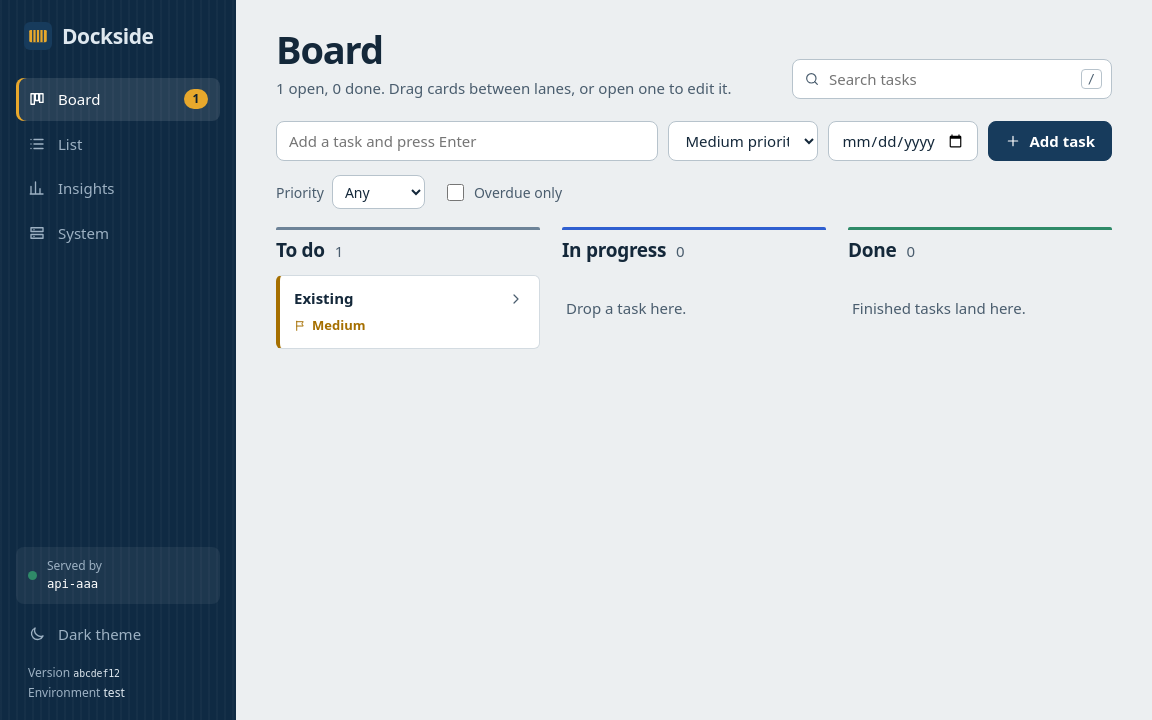
Scenario: board › adds a task from the quick-add form
Expected: the button "Existing" is shown, [294, 288, 495, 308]
Type "Write tests" into the field named "New task title" at (467, 141), box [276, 121, 658, 161]
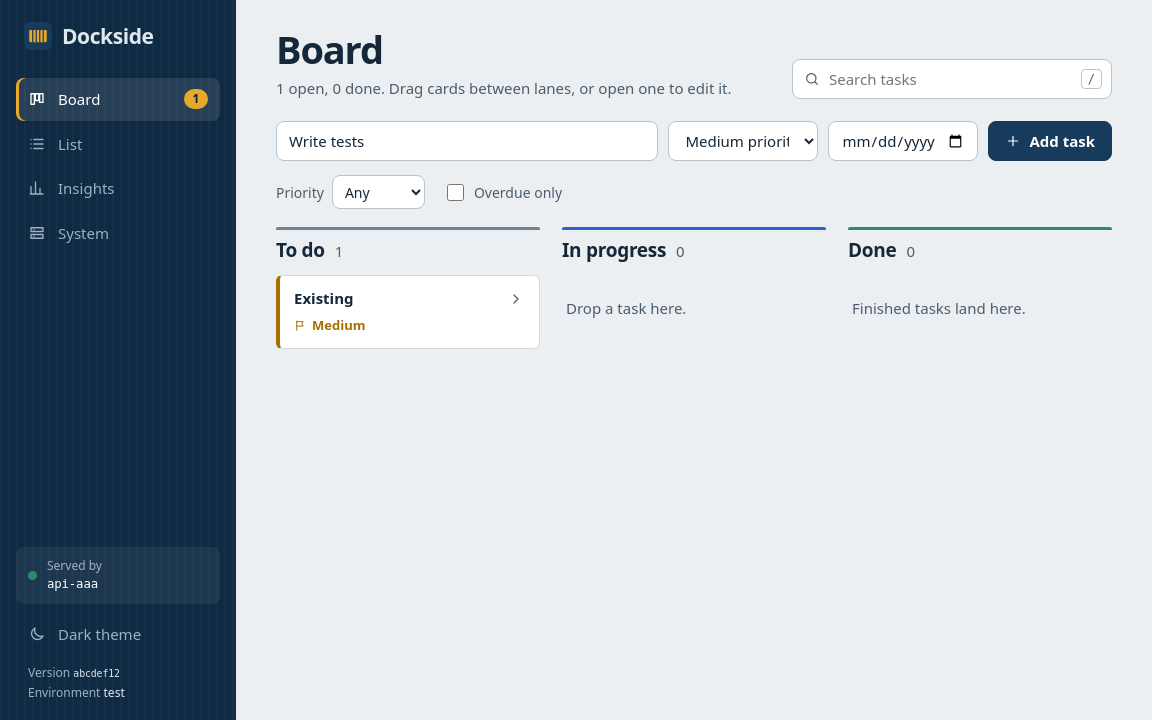
Select "High priority" in the dropdown named "Priority of the new task" at (743, 141), box [668, 121, 818, 161]
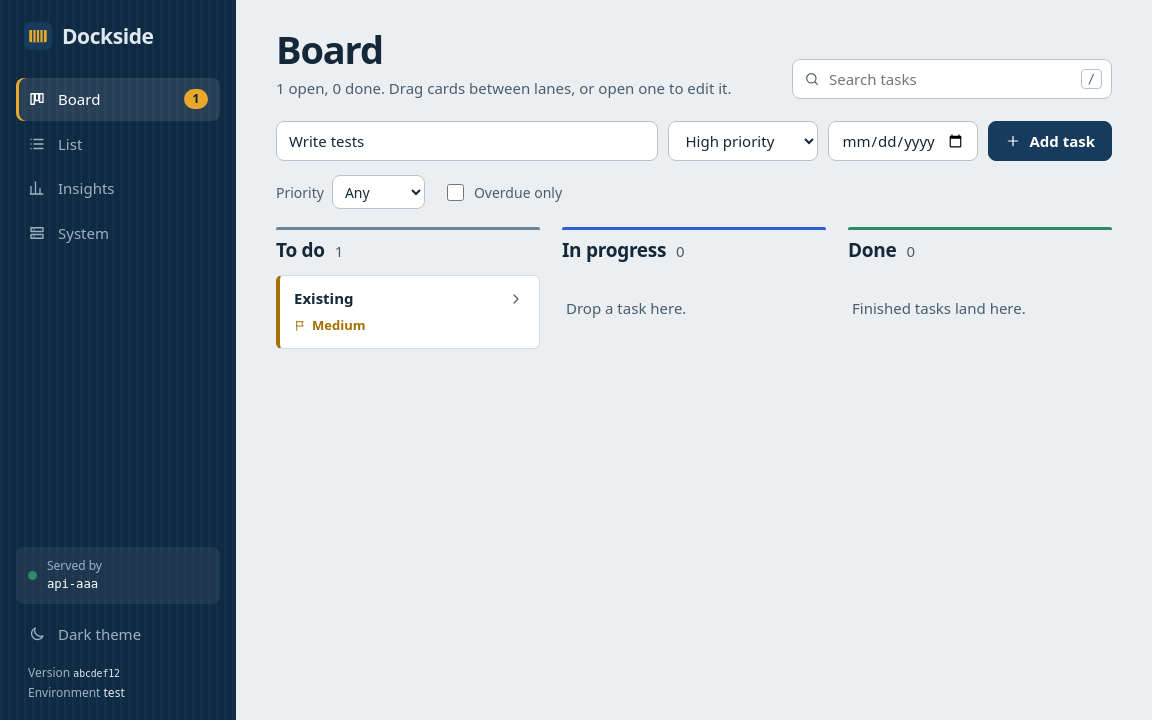
Click the button "Add task" at (1050, 141), box [988, 121, 1112, 161]
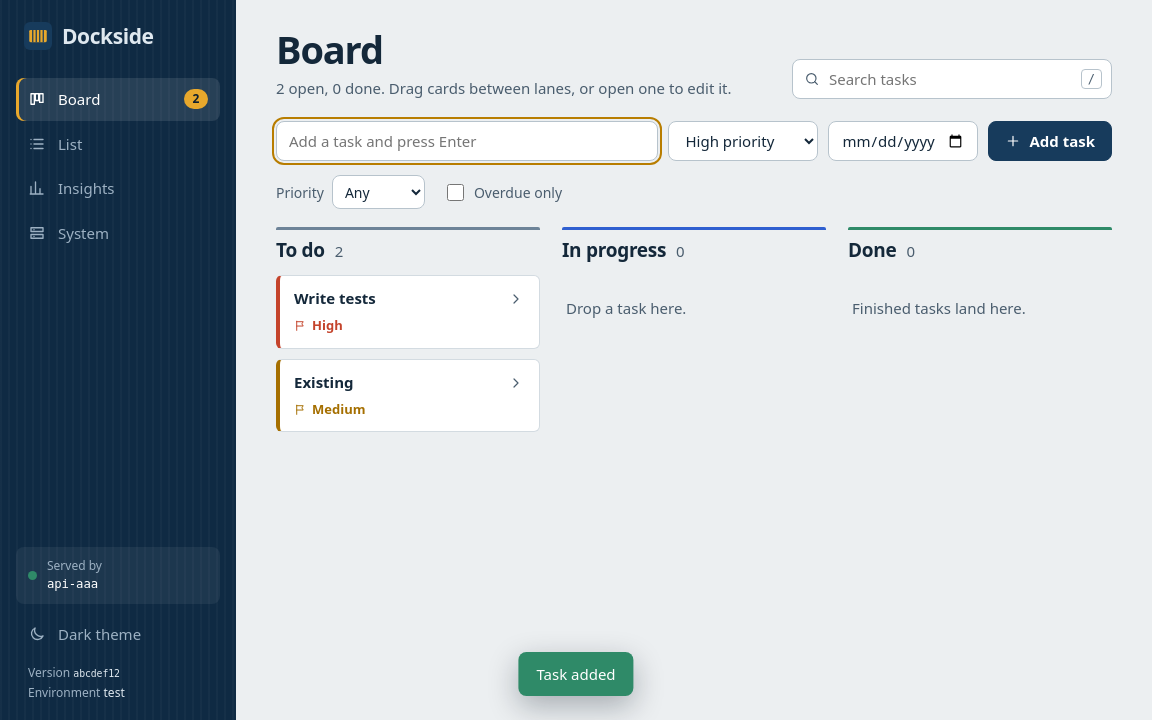
Now the button "Write tests" is shown, box [294, 288, 495, 308]
Now the text "Task added" is shown, box [518, 652, 634, 696]
Now the field named "New task title" is empty, box [276, 121, 658, 161]
